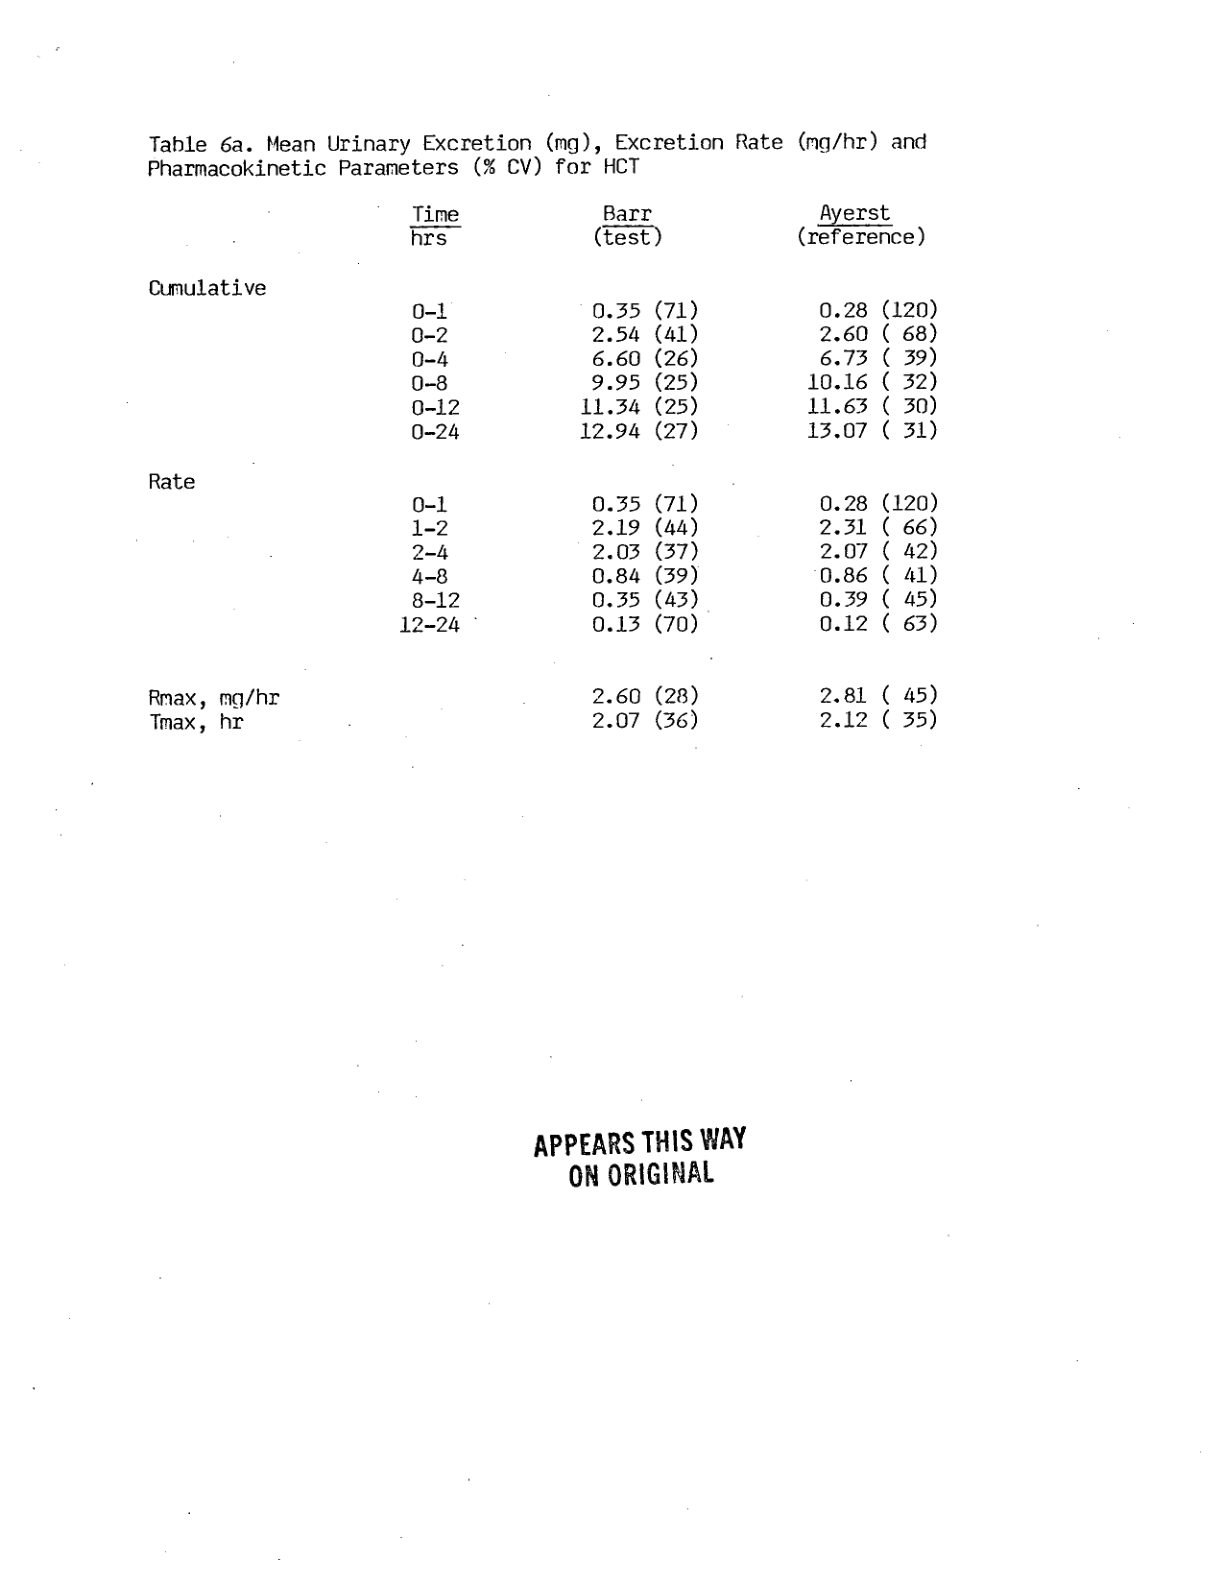nolines: (144, 201, 941, 732)
